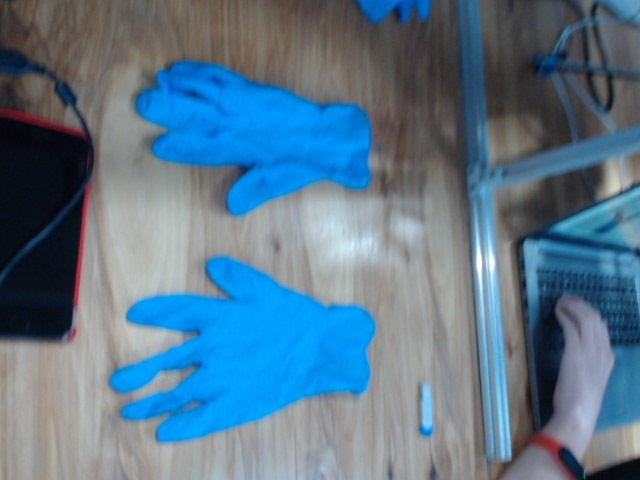medical_glove: (109, 257, 376, 444), (135, 61, 370, 215)
